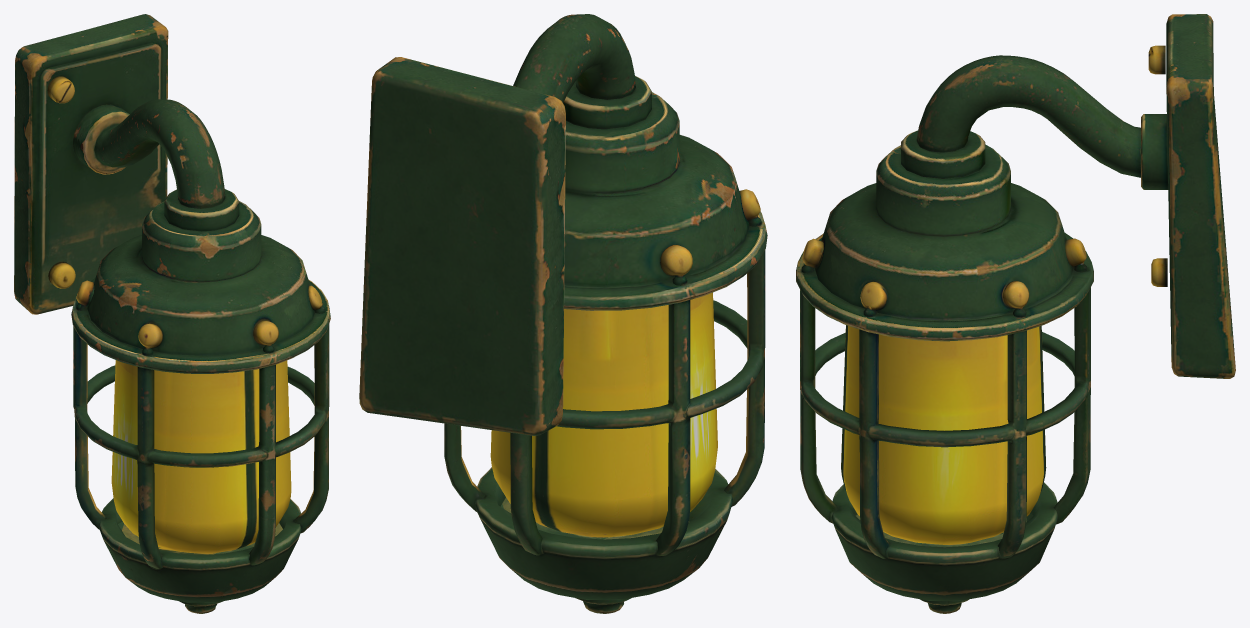
Rendered from P10_wall_lamp_Runtime_1k.glb.
3 renders of one model, left to right at view 1: azimuth 30°, elevation 25°; view 2: azimuth 150°, elevation 25°; view 3: azimuth 270°, elevation 25°, orthographic. The views are drawn at different scales.
Visible parts, largest first — view 1: tripo_2821e459_238a_4135_89b7_7c5ca919d5db; view 2: tripo_2821e459_238a_4135_89b7_7c5ca919d5db; view 3: tripo_2821e459_238a_4135_89b7_7c5ca919d5db.
Boxes of the visible parts, x1,y1,x2,y2 form: tripo_2821e459_238a_4135_89b7_7c5ca919d5db: (14, 14, 330, 613); tripo_2821e459_238a_4135_89b7_7c5ca919d5db: (359, 14, 767, 613); tripo_2821e459_238a_4135_89b7_7c5ca919d5db: (796, 14, 1235, 613).
Size of the model in its own units: 0.1897 by 0.4 by 0.2831.
Materials: 1 (1 with a texture image).
